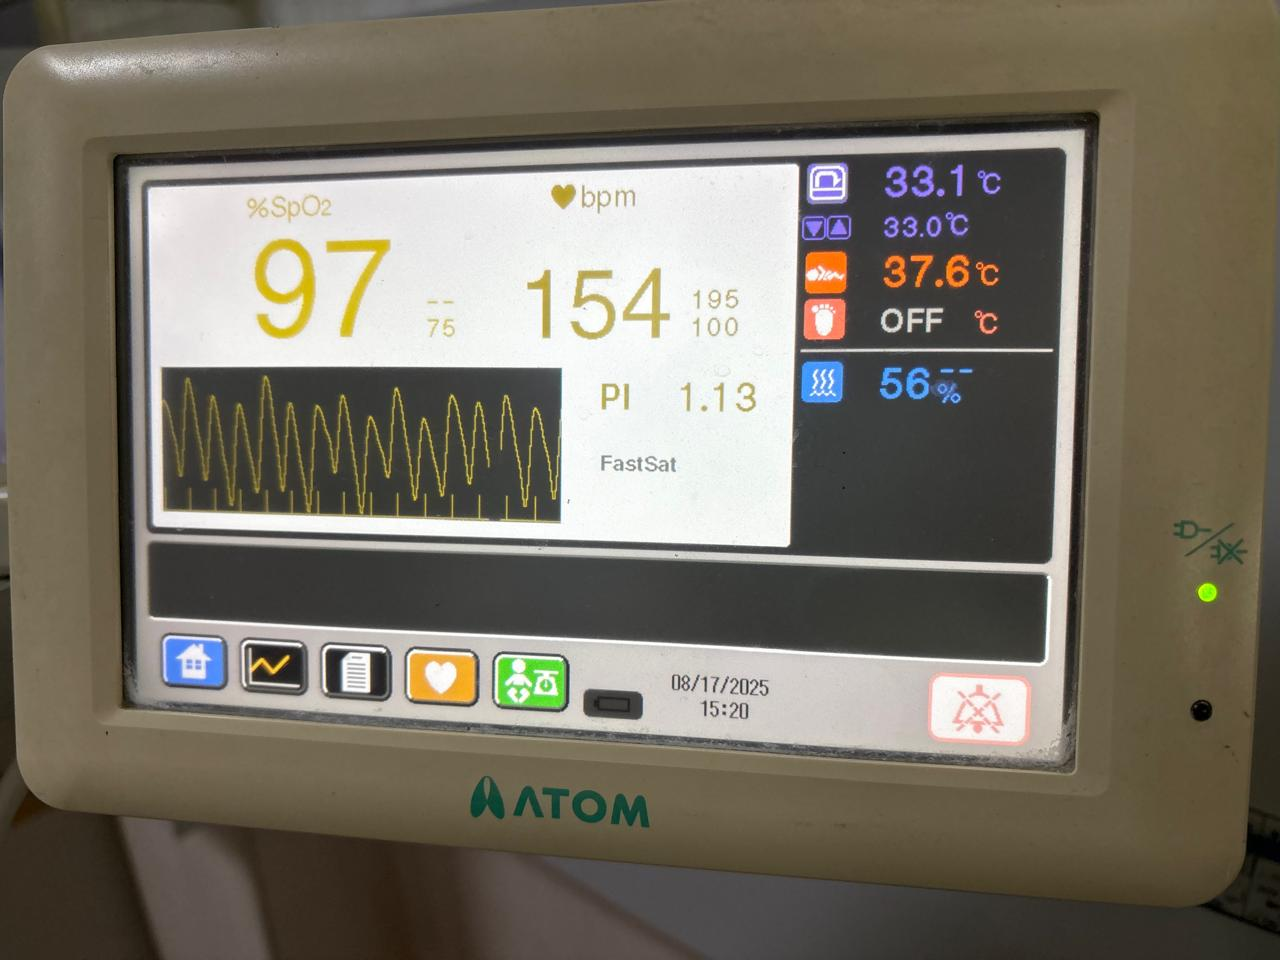heart_rate_value: (515, 251, 680, 357)
humidity_value: (863, 356, 935, 419)
skin_temp_value: (869, 238, 974, 305)
spo2_value: (238, 226, 397, 348)
